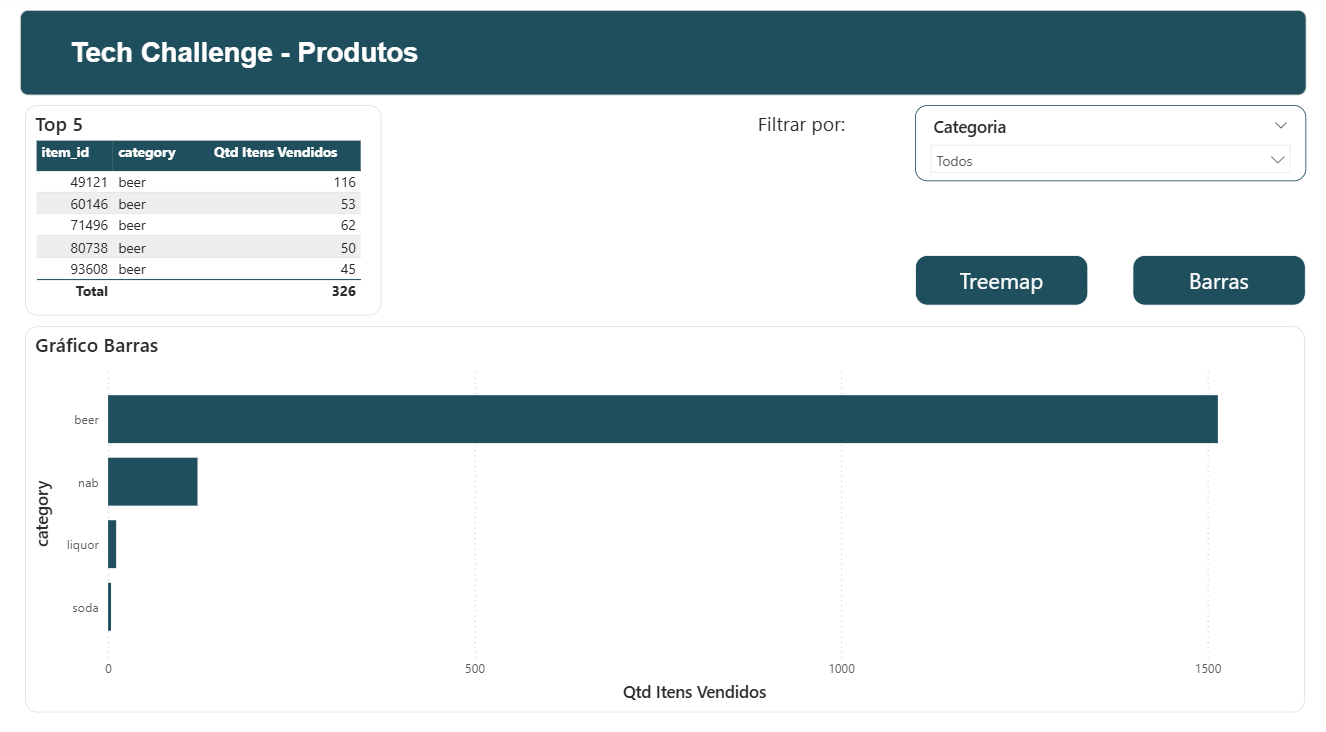

Layout of this report page (visuals, bound fields, positions):
{"tool":"powerbi","page":{"name":"Produtos","canvas":[1280,720],"ordinal":2},"visuals":[{"type":"tableEx","title":"Top 5","fields":{"Values":["Dim_Itens.item_id","Dim_Itens.category","Fact_ItensPedido.Qtd Itens Vendidos"]},"box":[24.5,106.6,344.2,203],"z":0},{"type":"clusteredBarChart","title":"Gráfico Barras","fields":{"Category":["Dim_Itens.category"],"Y":["Fact_ItensPedido.Qtd Itens Vendidos"]},"box":[24.5,319.7,1235.5,373],"z":1000},{"type":"actionButton","title":"Treemap","box":[882.7,250.6,167,49],"z":3000},{"type":"actionButton","title":"Barras","box":[1093,250.6,167,49],"z":4000},{"type":"textbox","box":[18.7,14.4,1241.3,82.1],"z":5000},{"type":"slicer","fields":{"Values":["Dim_Itens.category"]},"box":[882.7,106.6,377.3,73.4],"z":6000},{"type":"textbox","box":[725.8,106.6,138.2,60.5],"z":7000}]}

Visuals, with their boxes in screenshot pixels (x1, y1, x2, y2), scaled from the page's 1280x720 canvas onto the 1326x732 screenshot:
"Top 5" tableEx: crop(25, 108, 382, 315)
"Gráfico Barras" clusteredBarChart: crop(25, 325, 1305, 704)
"Treemap" actionButton: crop(914, 255, 1087, 305)
"Barras" actionButton: crop(1132, 255, 1305, 305)
textbox: crop(19, 15, 1305, 98)
slicer - Dim_Itens.category: crop(914, 108, 1305, 183)
textbox: crop(752, 108, 895, 170)
